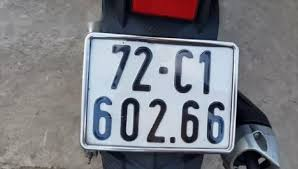Bien-so: (84, 34, 239, 152)
